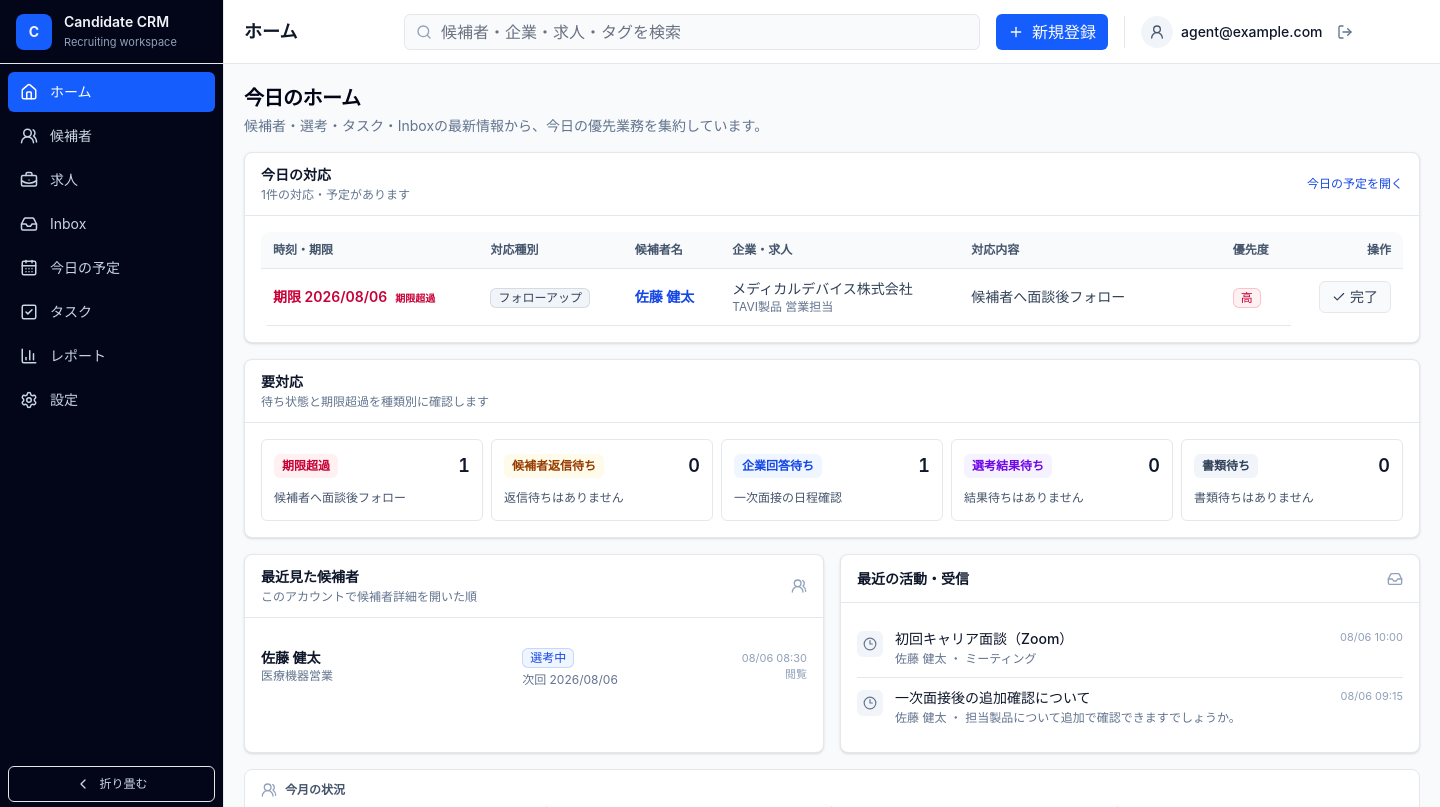
Candidate CRM Phase 2.5 routes › 全体検索から候補者詳細へ移動できる
The width and height of the screenshot is (1440, 807).
Type "佐藤" into the dropdown named "全体検索" at (692, 32), box [404,14,980,50]
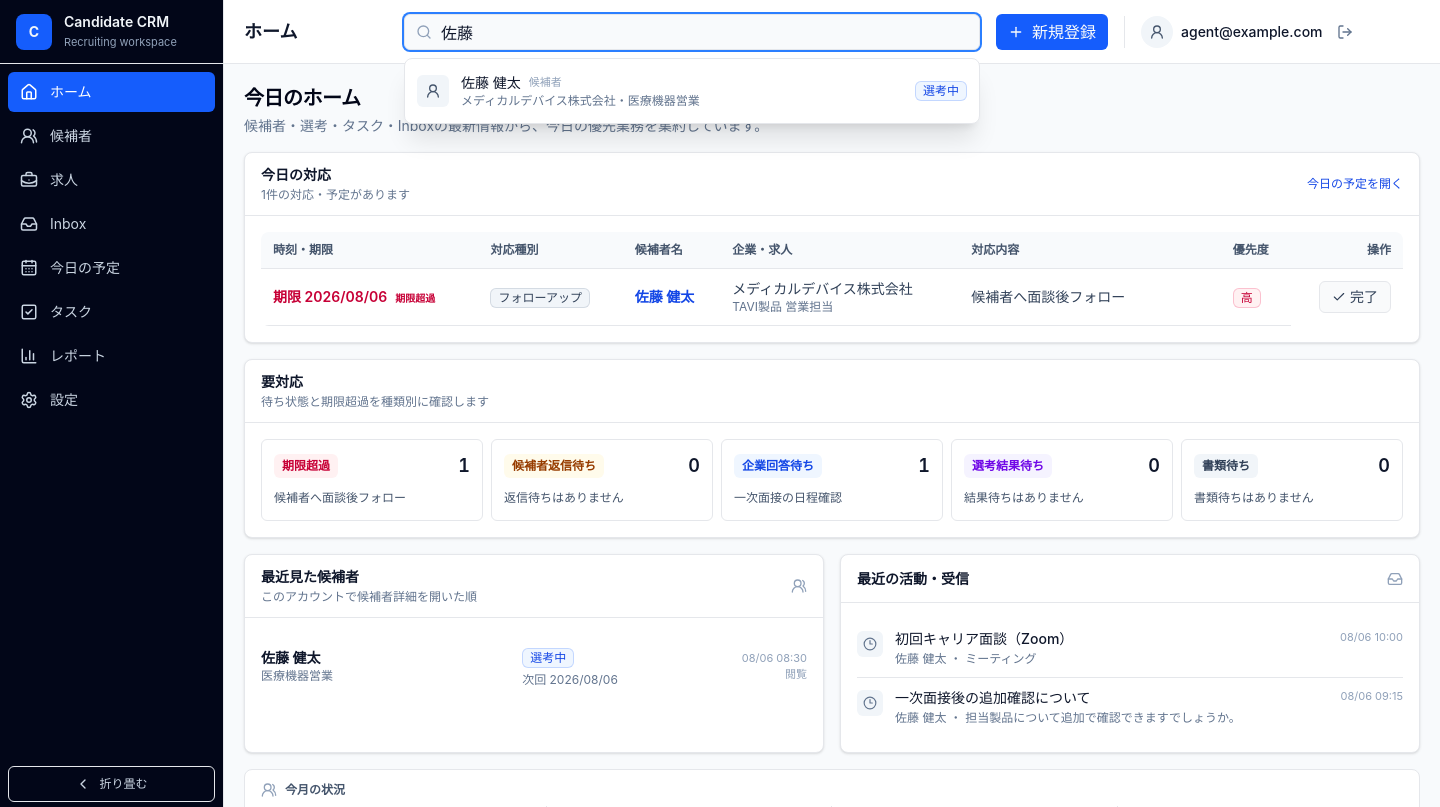
Click the option "佐藤 健太 候補者 メディカルデバイス株式会社・医療機器営業 選考中" at (692, 90), box [405,62,979,118]
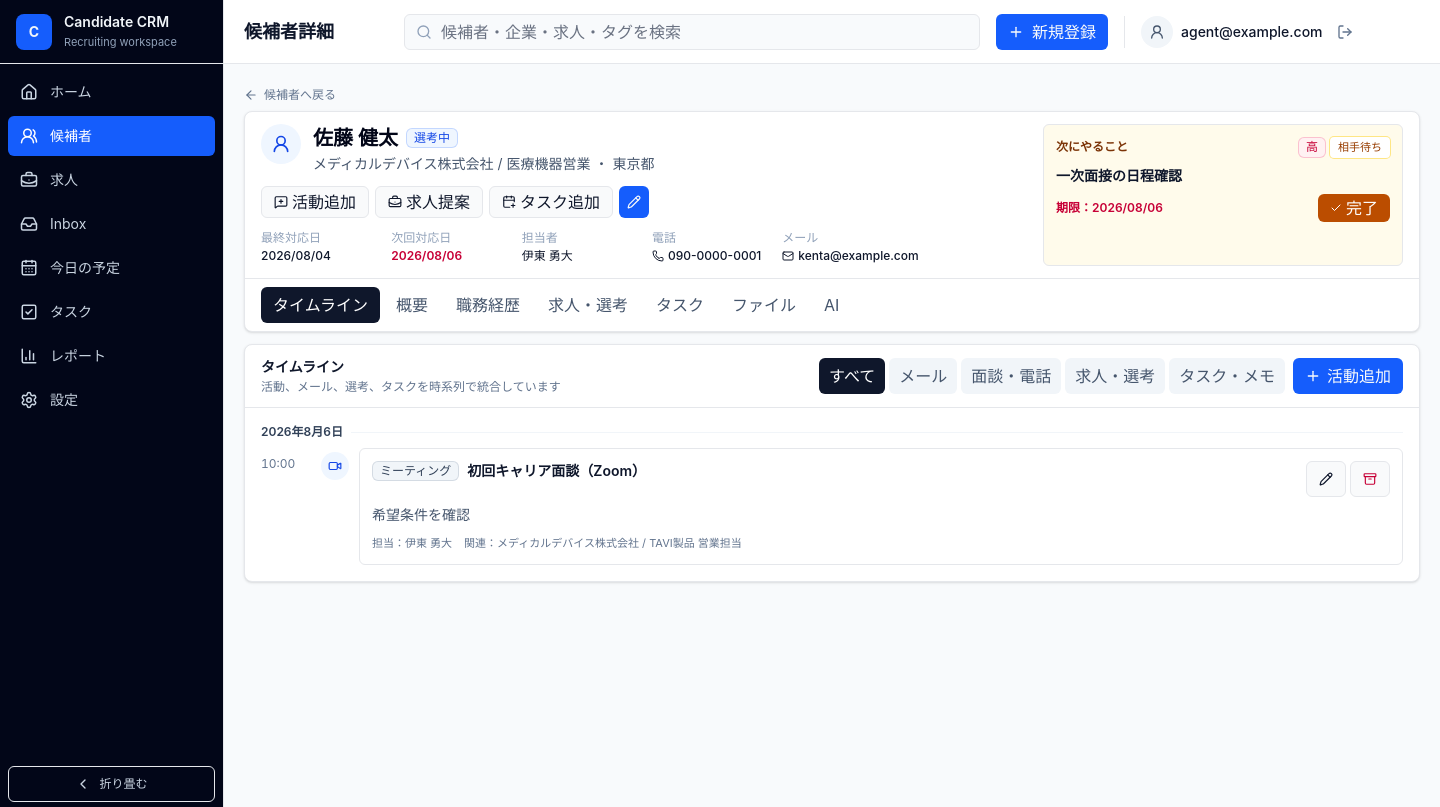
Result: the heading "佐藤 健太" is shown at [313,124,398,152]
